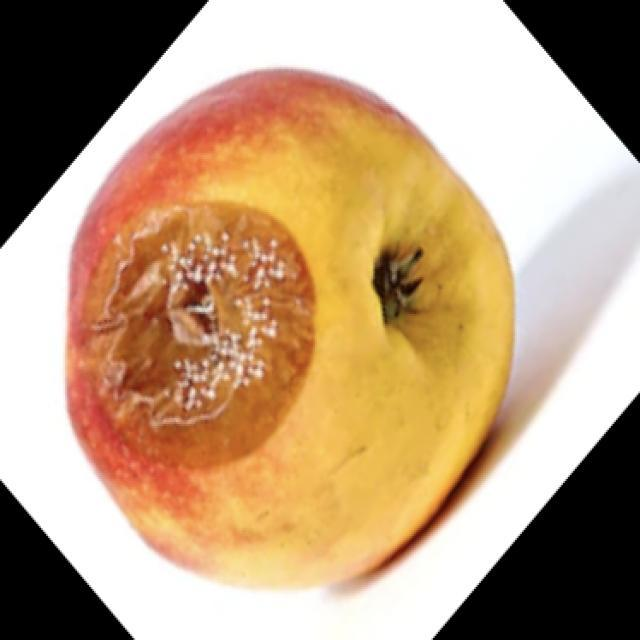Rotten: (72, 55, 515, 627)
